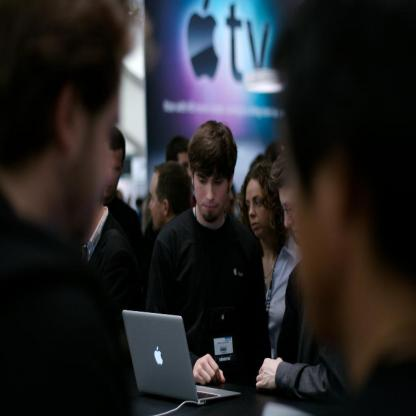board: (122, 308, 238, 405)
